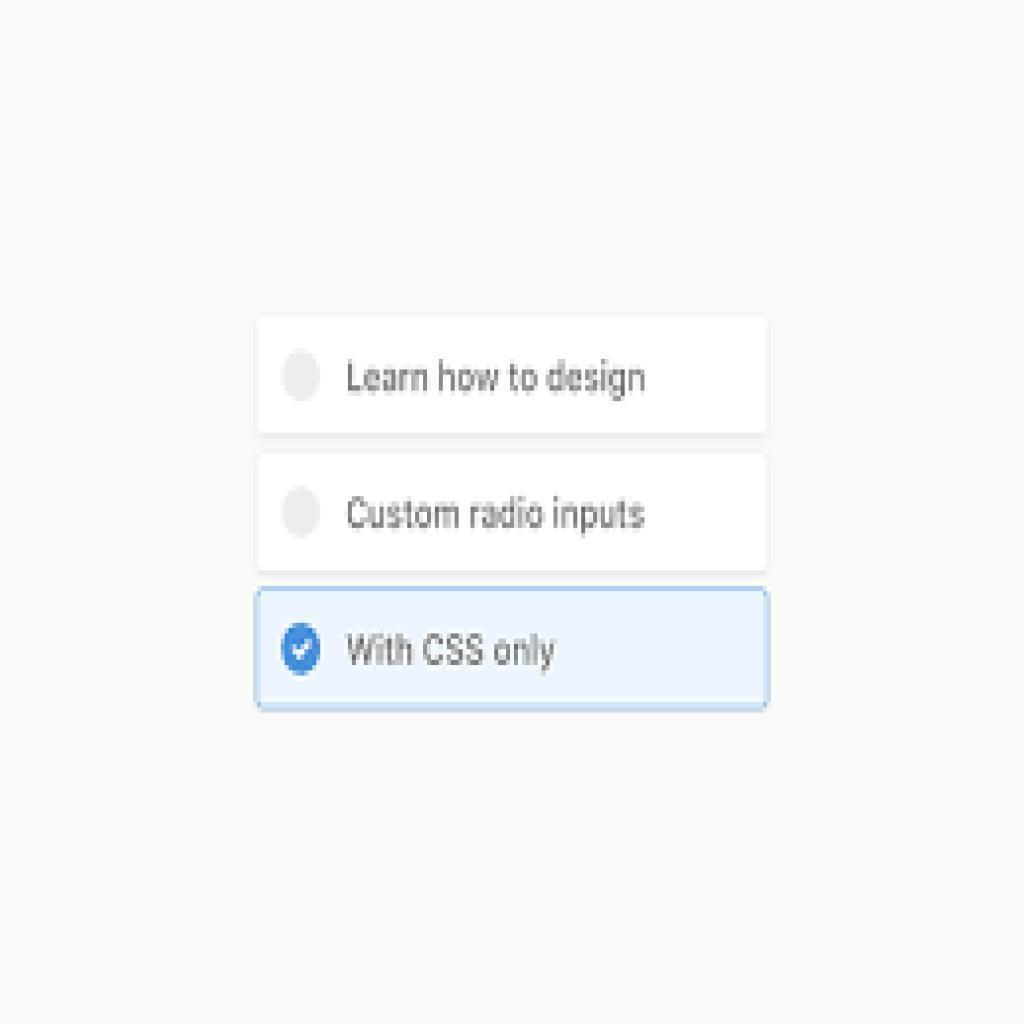label: (344, 493, 647, 542), (341, 359, 649, 402), (344, 631, 561, 670)
radio: (277, 619, 324, 677), (278, 348, 324, 404), (281, 487, 323, 542)
